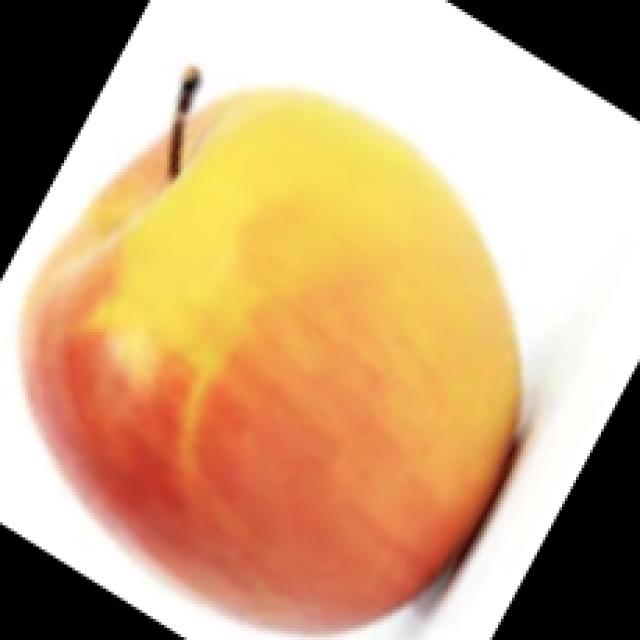Fresh Apple: (43, 110, 512, 615)
